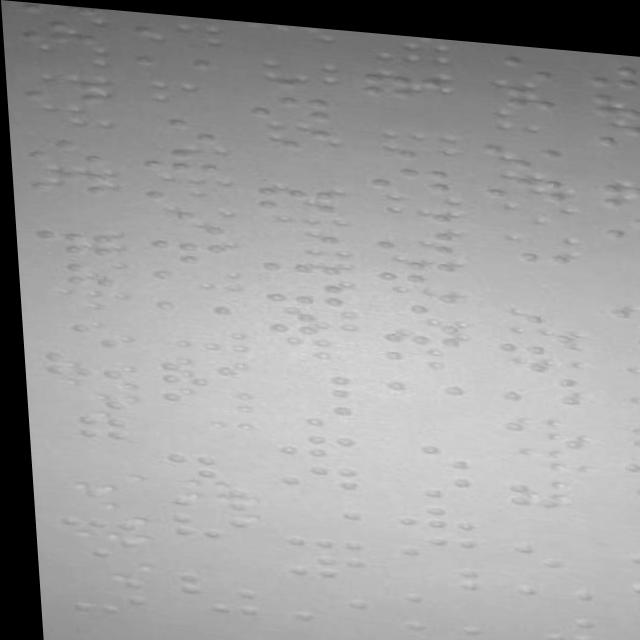braiile: (261, 423, 356, 460), (262, 453, 358, 489), (382, 493, 477, 528), (256, 393, 354, 426), (380, 464, 475, 497), (387, 551, 474, 587), (33, 408, 125, 441), (503, 559, 592, 593), (42, 528, 133, 561), (274, 544, 362, 578), (500, 588, 593, 620), (268, 486, 361, 518), (380, 433, 472, 465), (163, 567, 255, 599), (13, 74, 105, 106), (17, 134, 103, 168), (274, 575, 365, 607), (130, 110, 221, 142), (271, 514, 356, 548), (56, 587, 144, 619), (358, 155, 451, 185), (247, 86, 334, 118), (255, 271, 342, 303), (262, 361, 349, 393), (471, 40, 555, 72), (484, 350, 575, 379), (368, 249, 455, 279), (370, 281, 456, 311), (141, 234, 223, 265), (484, 318, 571, 347), (501, 614, 595, 640), (34, 320, 119, 348), (41, 502, 126, 530), (134, 143, 215, 171), (486, 228, 569, 255), (580, 51, 640, 81), (592, 200, 640, 232), (595, 231, 640, 261), (599, 325, 640, 357), (354, 25, 441, 39), (238, 17, 328, 30), (609, 509, 640, 539)
